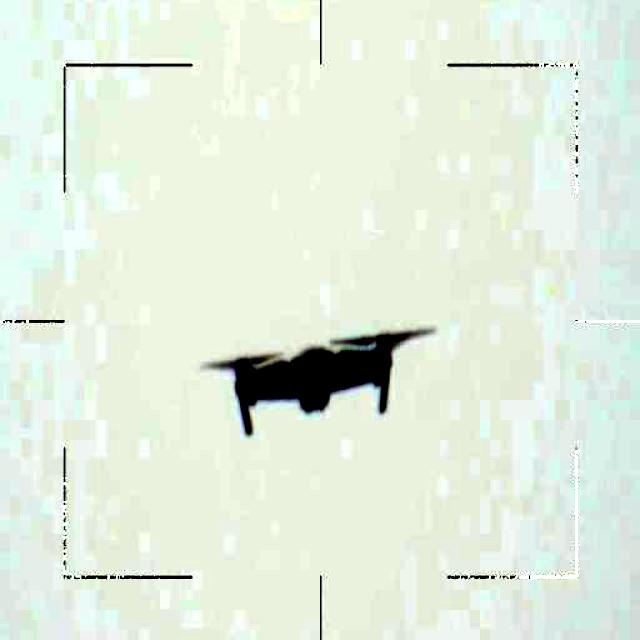bird: (194, 326, 430, 446)
